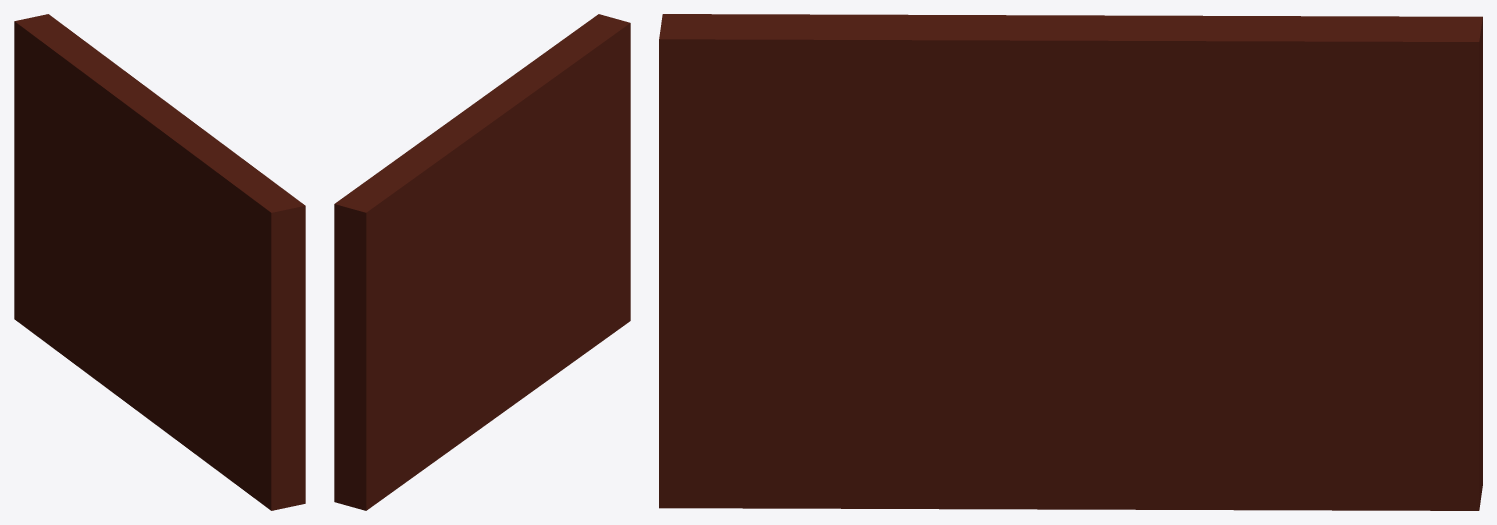
File: moon.fbx
3 views of the same model, side by side, from view 1: azimuth 30°, elevation 25°; view 2: azimuth 150°, elevation 25°; view 3: azimuth 270°, elevation 25° (orthographic). The views are drawn at different scales.
Parts seen in each view (by area): view 1: door_8; view 2: door_8; view 3: door_8.
Part boxes in pixels (x1,y1,x2,y2): door_8: (14,14,305,510); door_8: (334,14,630,510); door_8: (659,14,1482,510).
Size of the model in its own units: 0.1169 by 0.9095 by 1.45.
